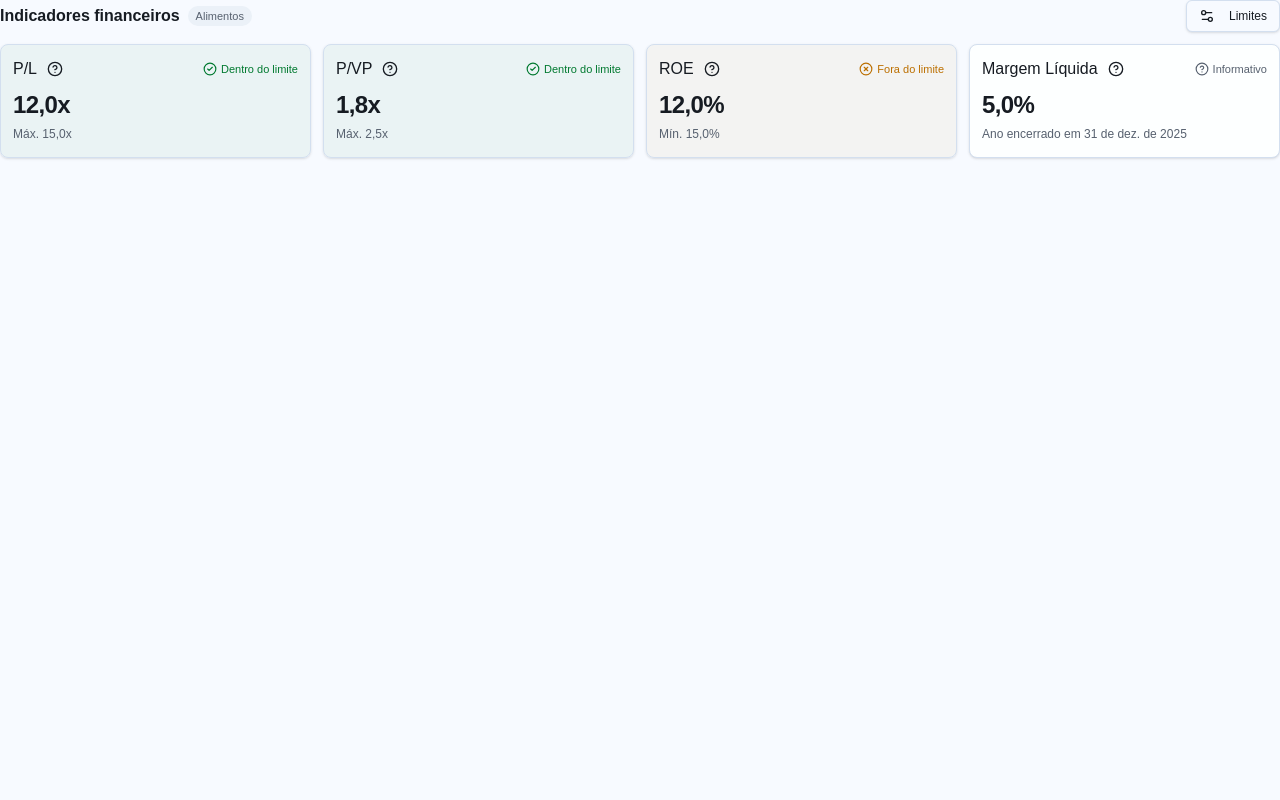
StockCriteriaSummary › integrates each indicator and its evaluation in one compact card
The width and height of the screenshot is (1280, 800).
Expected: the element "Indicadores financeiros" is shown, [0,0,1279,158]
Expected: the number of headings "P/L" is 1, [13,57,37,81]
Click the button named "Ajuda sobre P/L": (55, 69) [43,57,67,81]
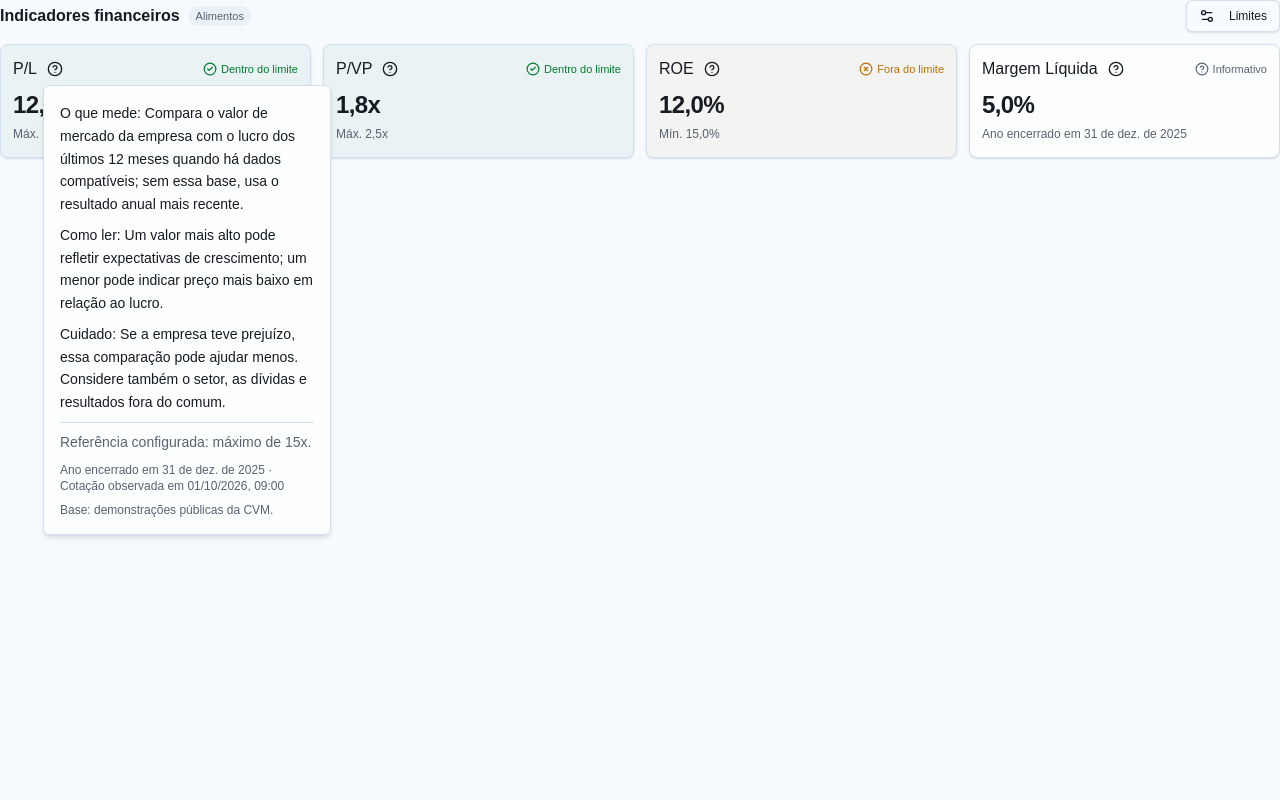
Expected: the text "Cotação observada em" is shown, [60,462,284,492]
Expected: the text "Referência configurada: máximo de 15x." is shown, [60,422,314,454]
